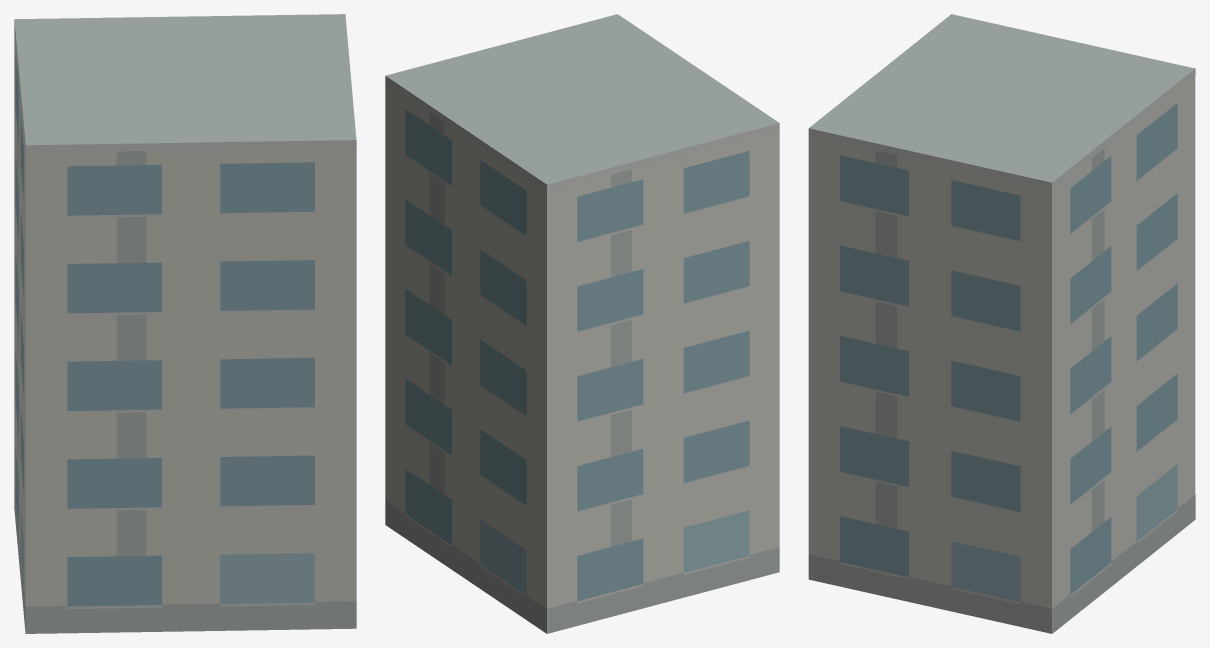
The model's file is residential-da9be695-7ae2-4d9e-814c-a08da422f107.glb.
3 views of the same model, side by side, from view 1: azimuth 30°, elevation 25°; view 2: azimuth 150°, elevation 25°; view 3: azimuth 270°, elevation 25° (orthographic). The views are drawn at different scales.
Parts seen in each view (by area): view 1: residential-da9be695-7ae2-4d9e-814c-a08da422f107.tmp; view 2: residential-da9be695-7ae2-4d9e-814c-a08da422f107.tmp; view 3: residential-da9be695-7ae2-4d9e-814c-a08da422f107.tmp.
Boxes of the visible parts, box(x1,y1,x2,y2) form: residential-da9be695-7ae2-4d9e-814c-a08da422f107.tmp: box(14, 14, 356, 633); residential-da9be695-7ae2-4d9e-814c-a08da422f107.tmp: box(385, 14, 779, 633); residential-da9be695-7ae2-4d9e-814c-a08da422f107.tmp: box(808, 14, 1195, 633).
Size of the model in its own units: 12.23 by 15.25 by 11.86.
